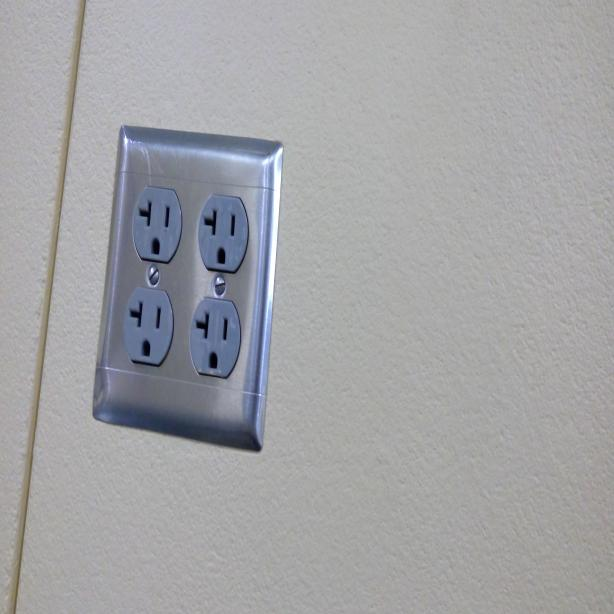typeb: (122, 286, 174, 360), (199, 203, 246, 276), (190, 304, 238, 375), (137, 190, 178, 259)
